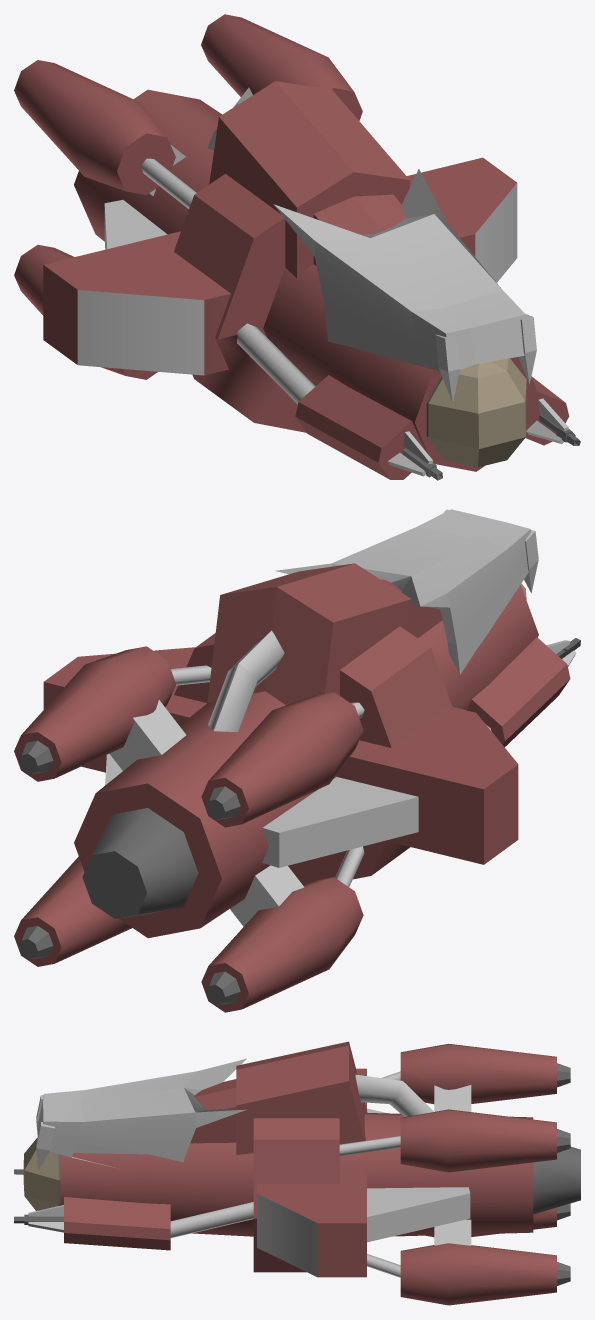
The model's file is H_Interceptor_LOD.fbx.
The picture shows the model from 3 angles, top to bottom: view 1: azimuth 30°, elevation 25°; view 2: azimuth 150°, elevation 25°; view 3: azimuth 270°, elevation 25°; orthographic projection. The views are drawn at different scales.
Parts seen in each view (by area): view 1: polySurface12; view 2: polySurface12; view 3: polySurface12.
Boxes of the visible parts, x1,y1,x2,y2 form: polySurface12: (14, 14, 580, 480); polySurface12: (14, 509, 580, 1012); polySurface12: (14, 1041, 580, 1305).
Size of the model in its own units: 15.94 by 10.87 by 24.74.
